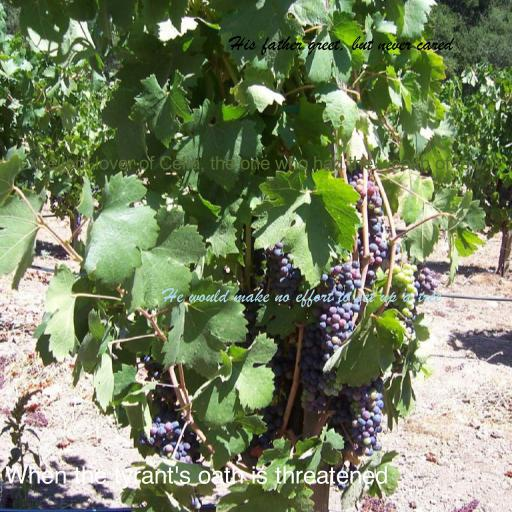Arial: (19, 155, 483, 173)
Brush Script MT: (163, 288, 441, 308), (229, 36, 453, 56)
SF Pro: (4, 466, 388, 489)
